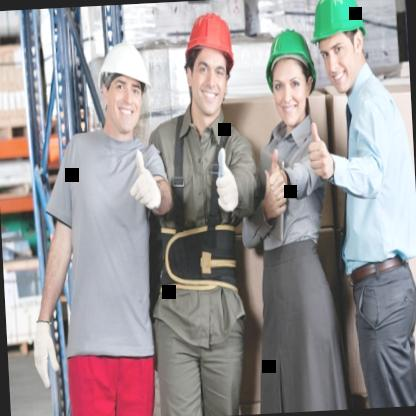helmet: (171, 3, 244, 124), (257, 7, 324, 138), (92, 30, 160, 140), (306, 0, 373, 93)
